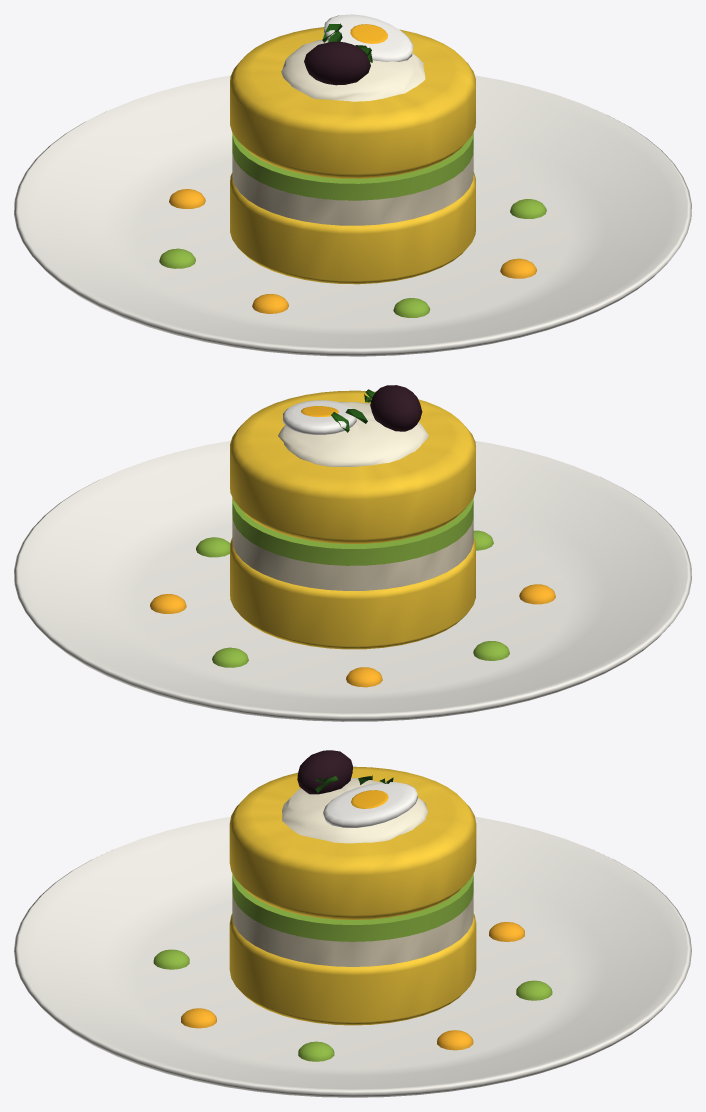
File: causa.glb
3 renders of one model, top to bottom at view 1: azimuth 30°, elevation 25°; view 2: azimuth 150°, elevation 25°; view 3: azimuth 270°, elevation 25°, orthographic.
Visible parts, largest first — view 1: causa; view 2: causa; view 3: causa.
Boxes of the visible parts, x1=… form: causa: x1=14, y1=14, x2=691, y2=356; causa: x1=14, y1=385, x2=691, y2=721; causa: x1=14, y1=750, x2=691, y2=1097.
Bounding box in the file's own units: 0.22 × 0.086 × 0.22.
